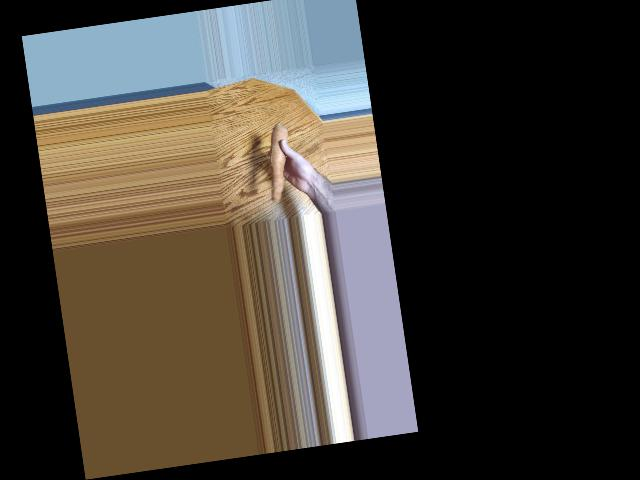sweet_potato: (265, 124, 290, 202)
